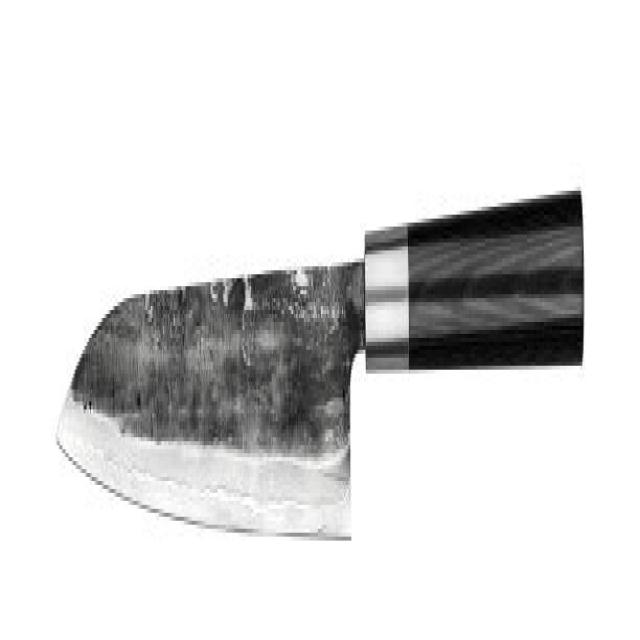knife: (55, 172, 589, 554)
